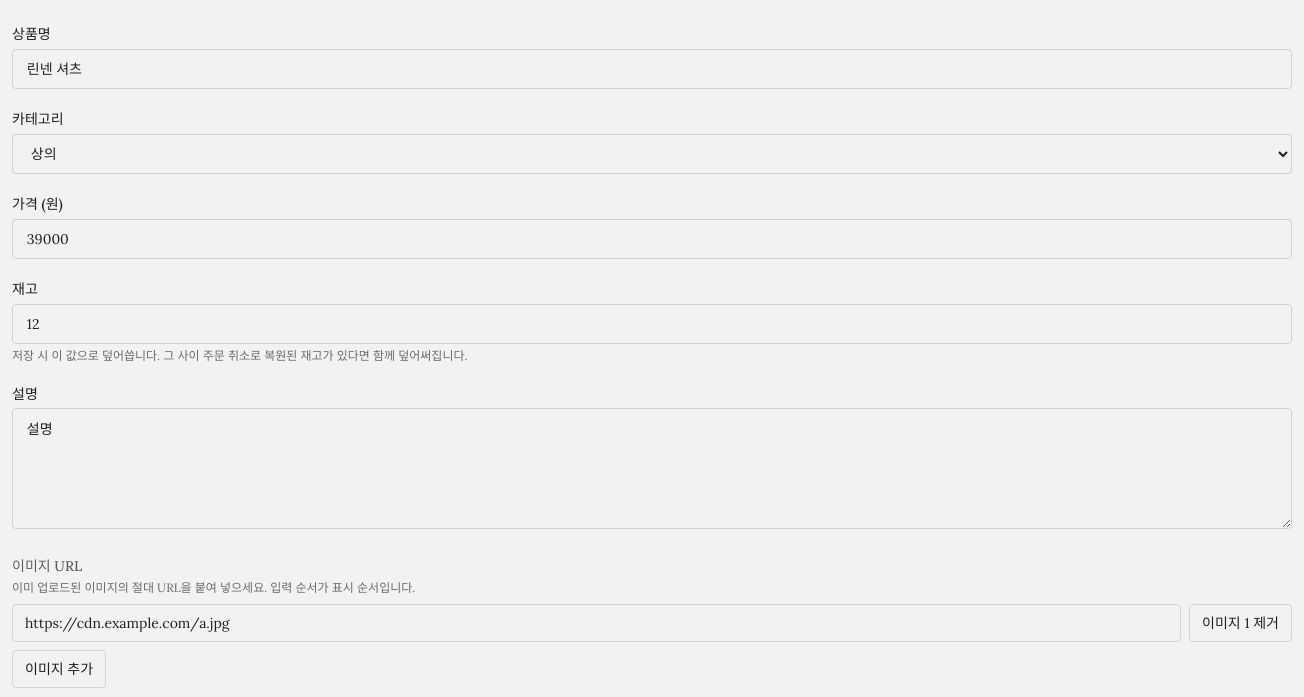
Test case: every form control is reachable by its label › labels each image row individually, so row 2 is distinguishable from row 1
Click the button "이미지 추가".
click(59, 669)  # box left=12, top=650, right=106, bottom=688
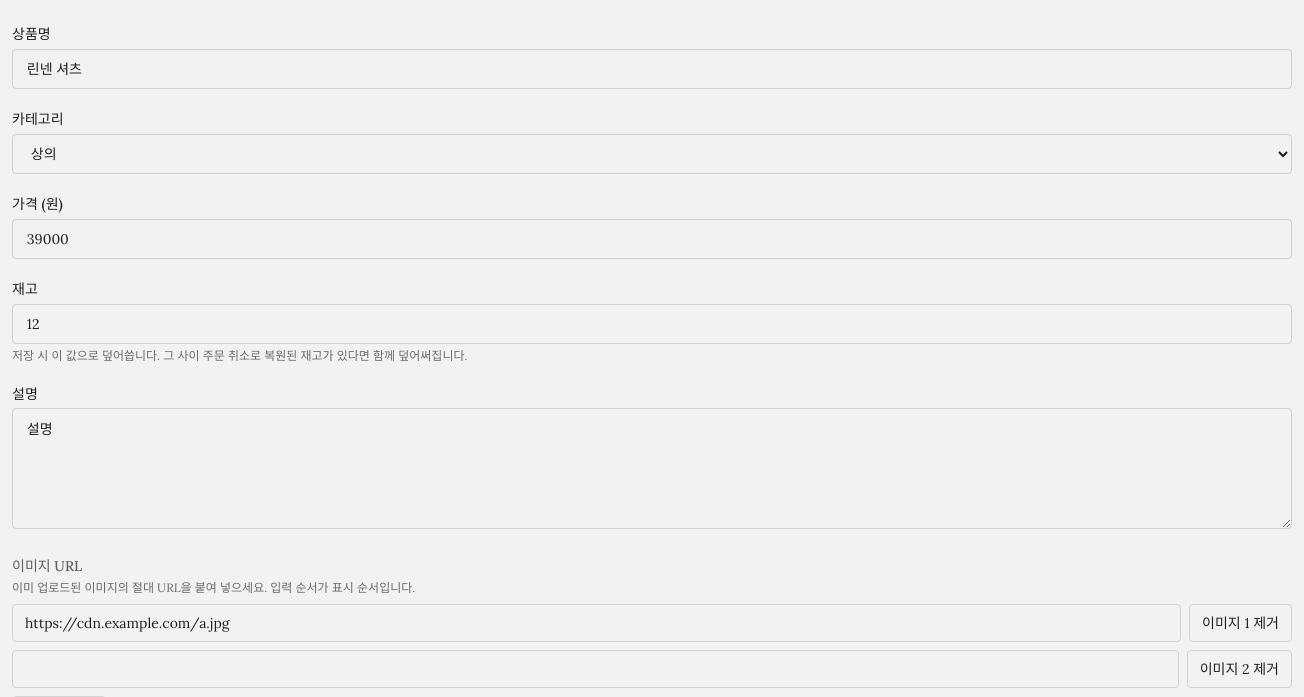
Expected: the 1st field named "이미지 URL 1" is shown, left=12, top=604, right=1181, bottom=642
Now the 2nd field named "이미지 URL 2" is shown, box left=12, top=650, right=1179, bottom=688
